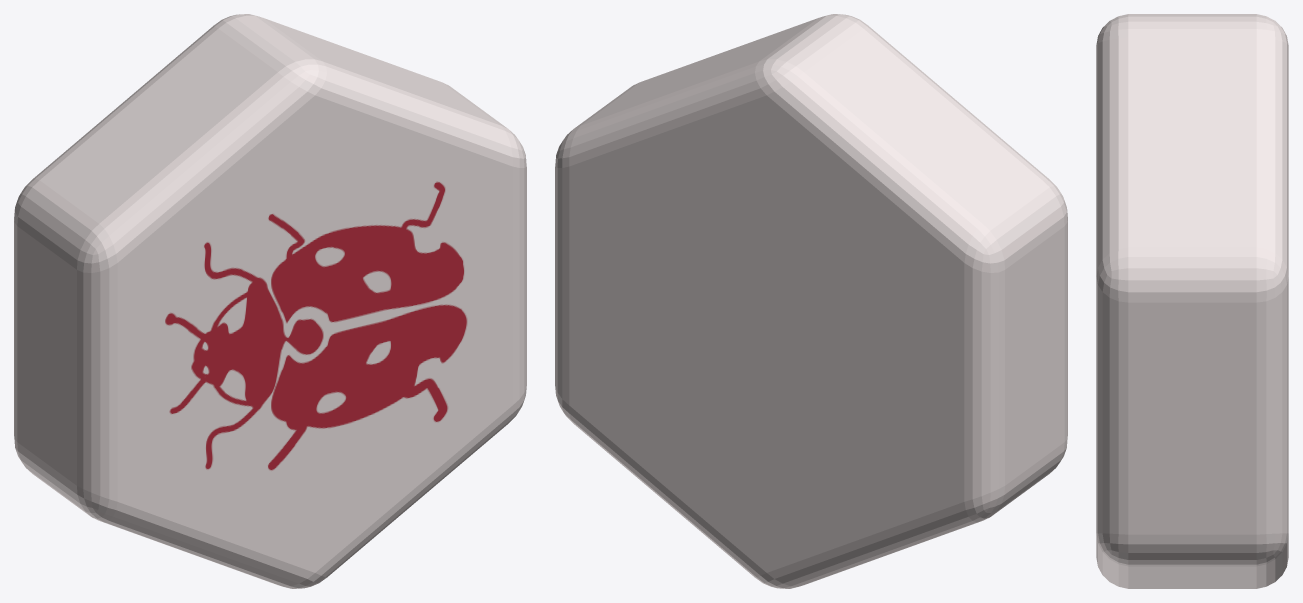
3 renders of one model, left to right at view 1: azimuth 30°, elevation 25°; view 2: azimuth 150°, elevation 25°; view 3: azimuth 270°, elevation 25°, orthographic. The views are drawn at different scales.
Parts seen in each view (by area): view 1: wL; view 2: wL; view 3: wL.
Boxes of the visible parts, x1,y1,x2,y2 form: wL: [14, 14, 526, 588]; wL: [555, 14, 1067, 588]; wL: [1096, 14, 1288, 588].
Bounding box in the file's own units: 0.0866 × 0.0973 × 0.03.
1 material, 1 textured.
